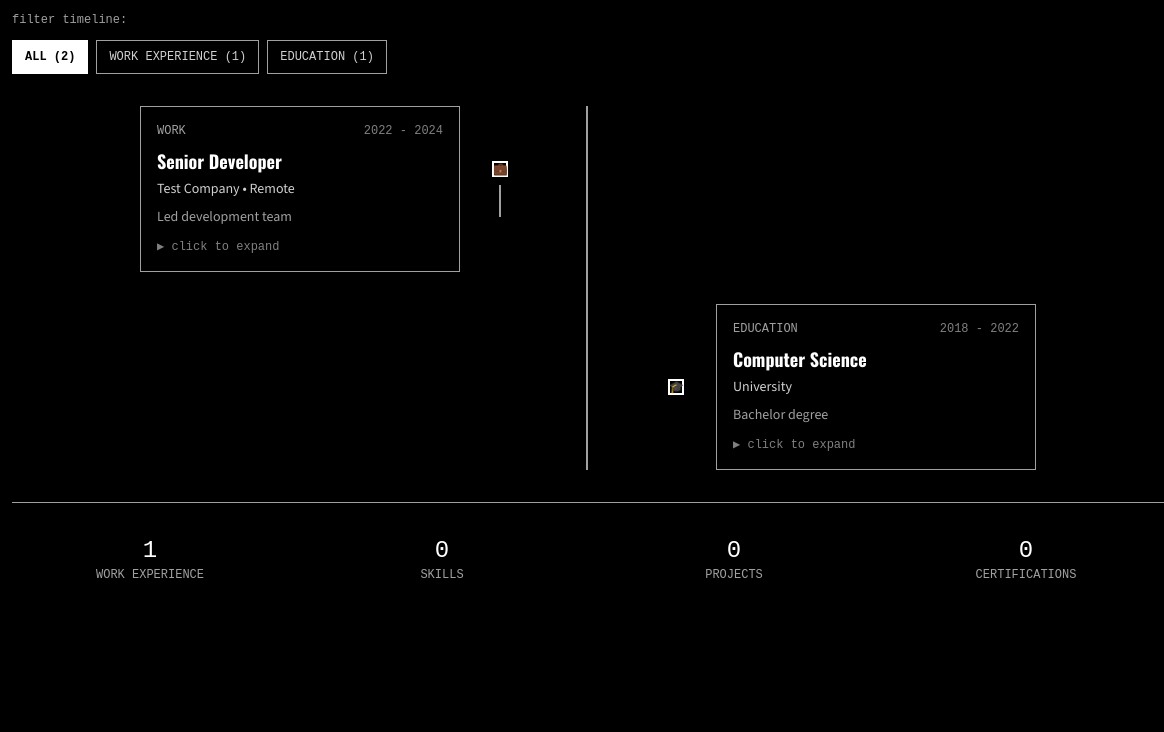
CVTimeline › Filter Functionality › should filter items when work filter is selected
Click the button "WORK EXPERIENCE (1)".
click(178, 57)  # box [96,40,259,74]
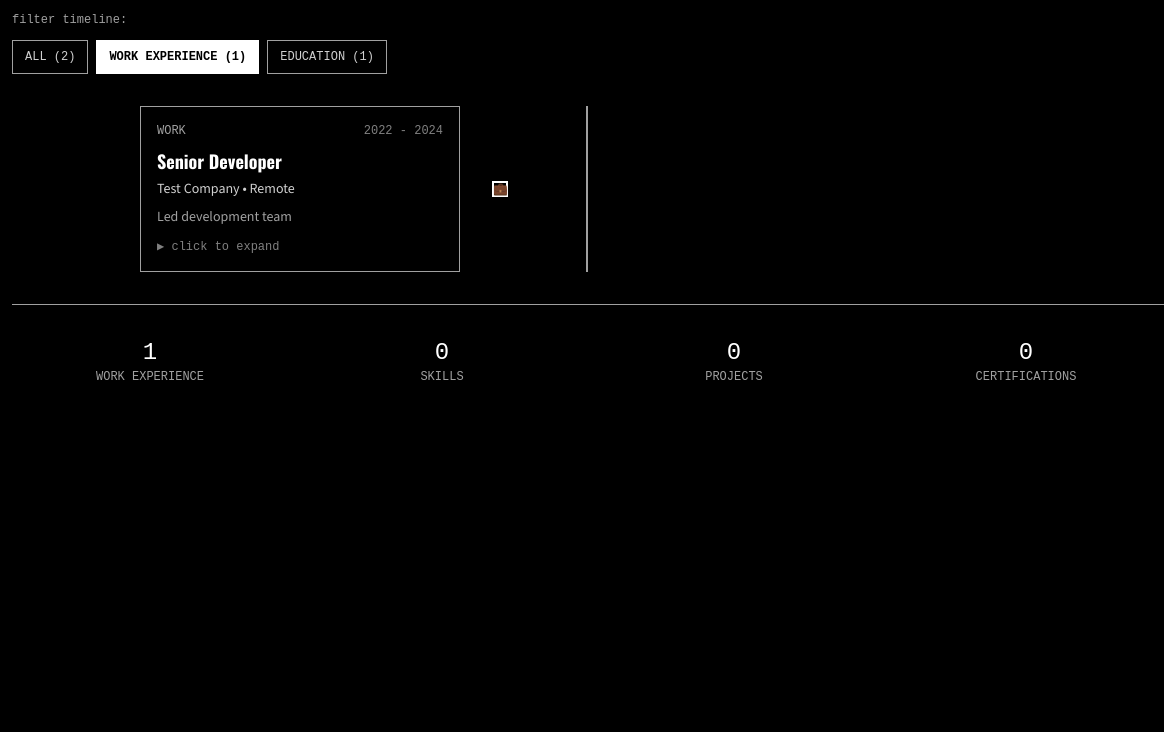
Expected: the heading "Senior Developer" is shown, [157,148,282,174]
Now the heading "Computer Science" is gone
